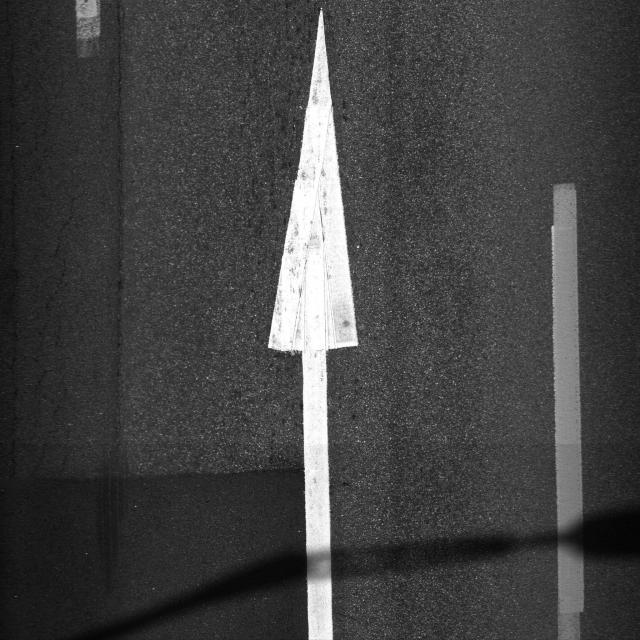forward: (75, 0, 598, 640)
